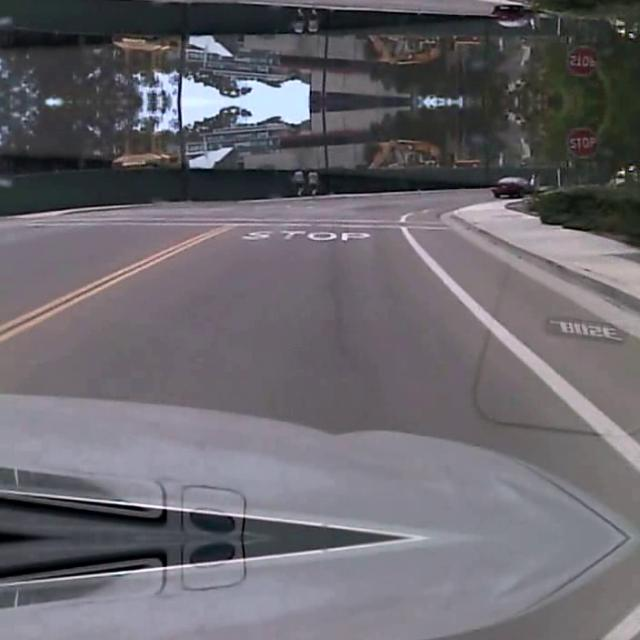stop: (566, 126, 598, 156), (566, 46, 598, 76)
